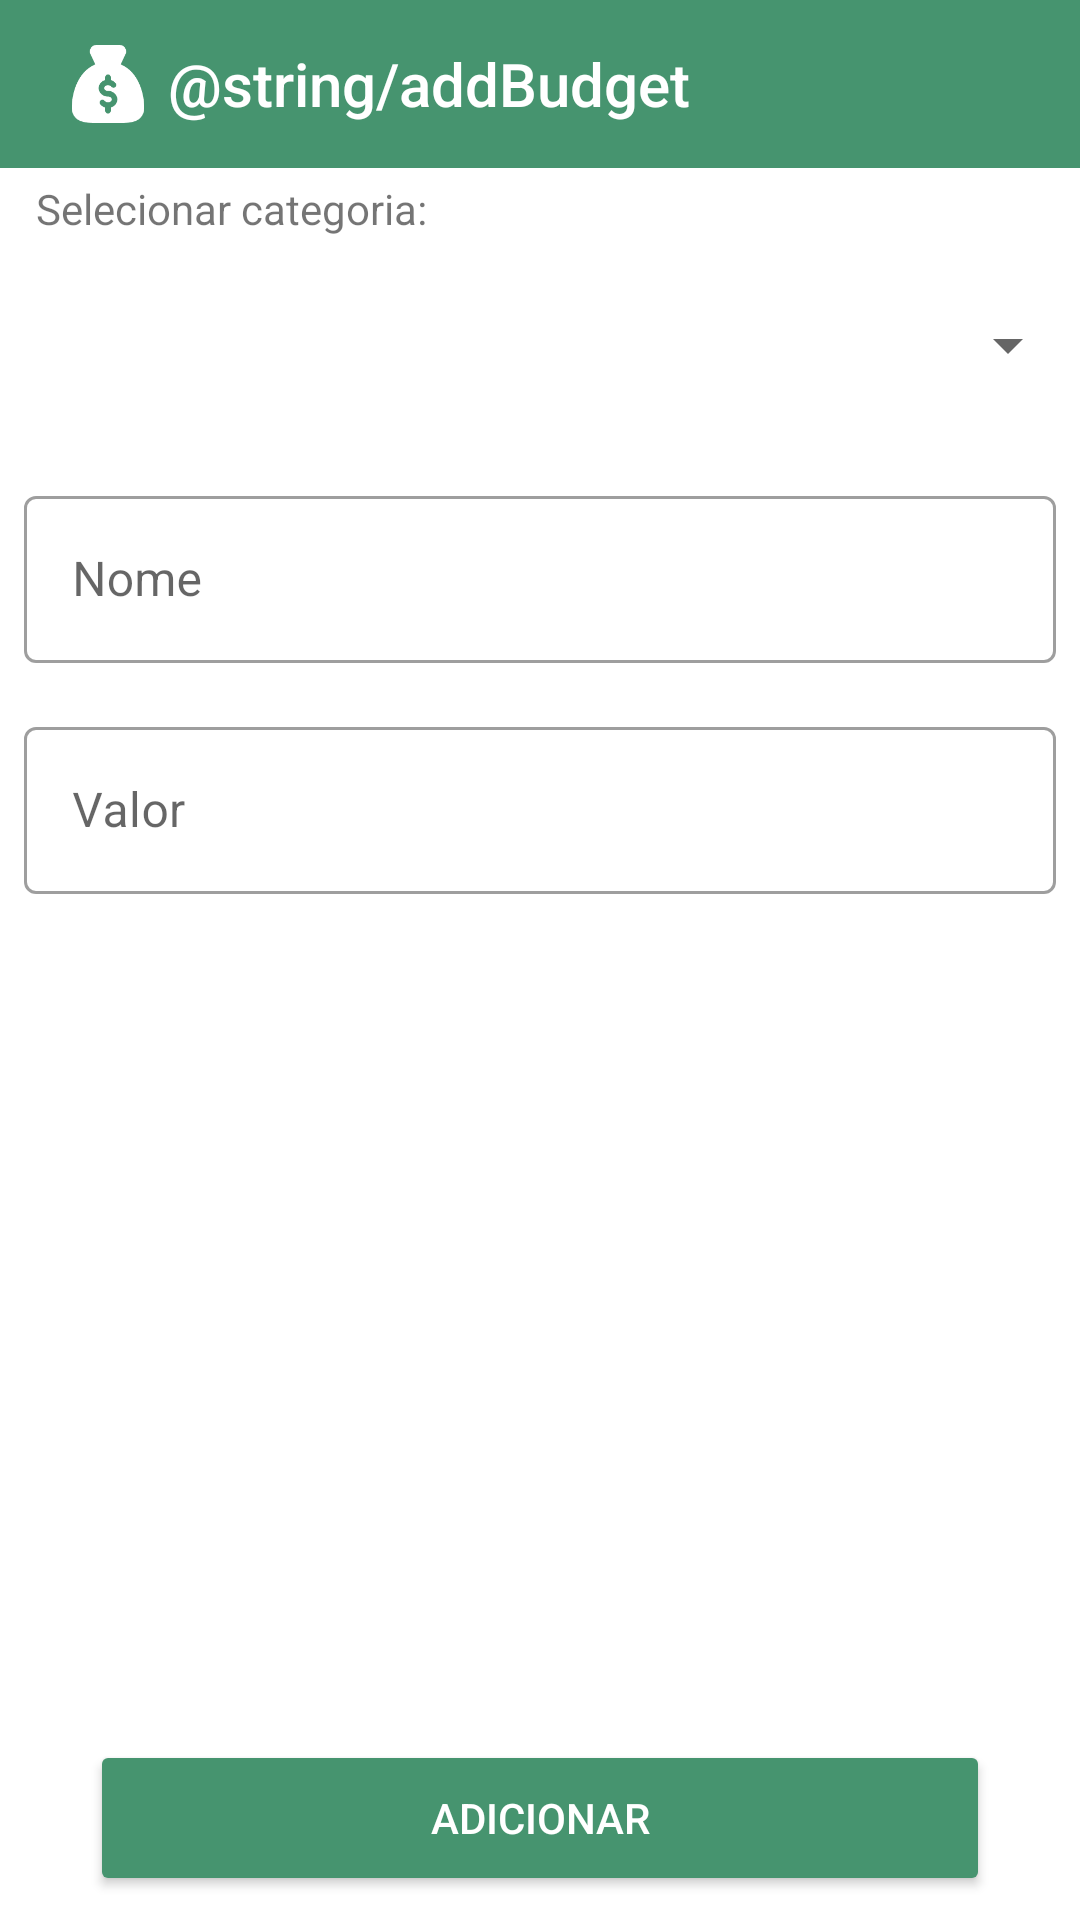

Icons on this 1080px×1920px Android screen, each with the point to tap as (x=x, y=y):
money: (x=108, y=84)
